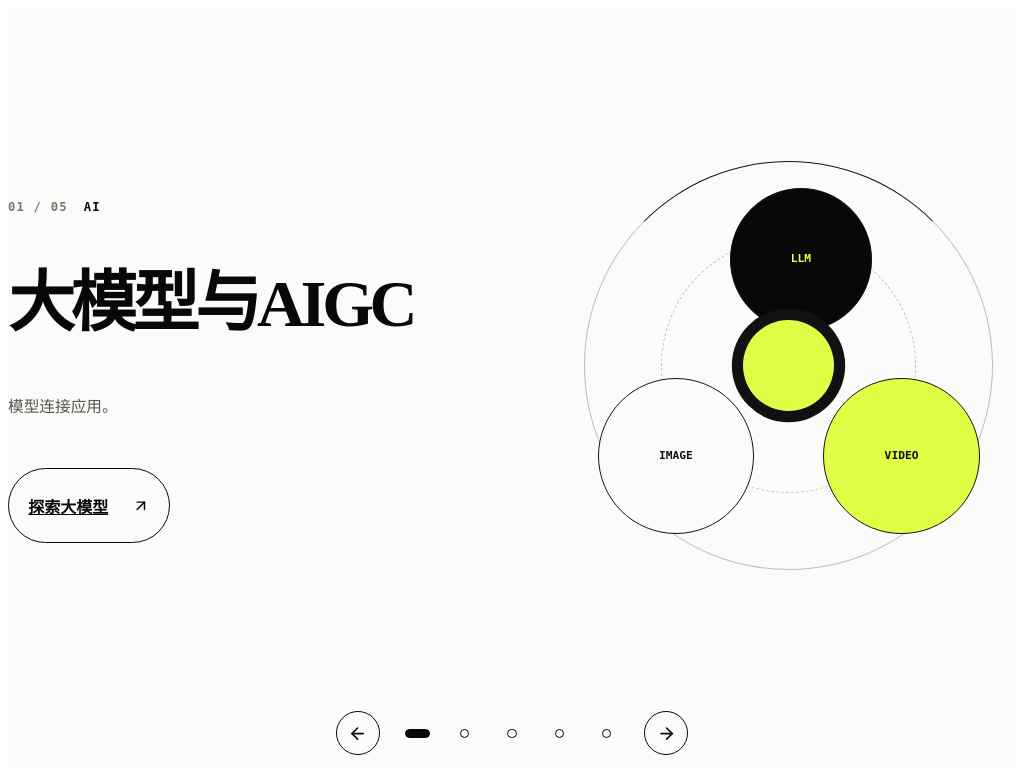
Scenario: home hero carousel › pauses while focus is inside and resumes when focus leaves
Focus the link "探索大模型": (89, 506) [8,468,170,543]
expect the heading reads "大模型与AIGC": met, box [8,266,413,340]
Leave the link "探索大模型", box [8,468,170,543]
Wait 6000 ms
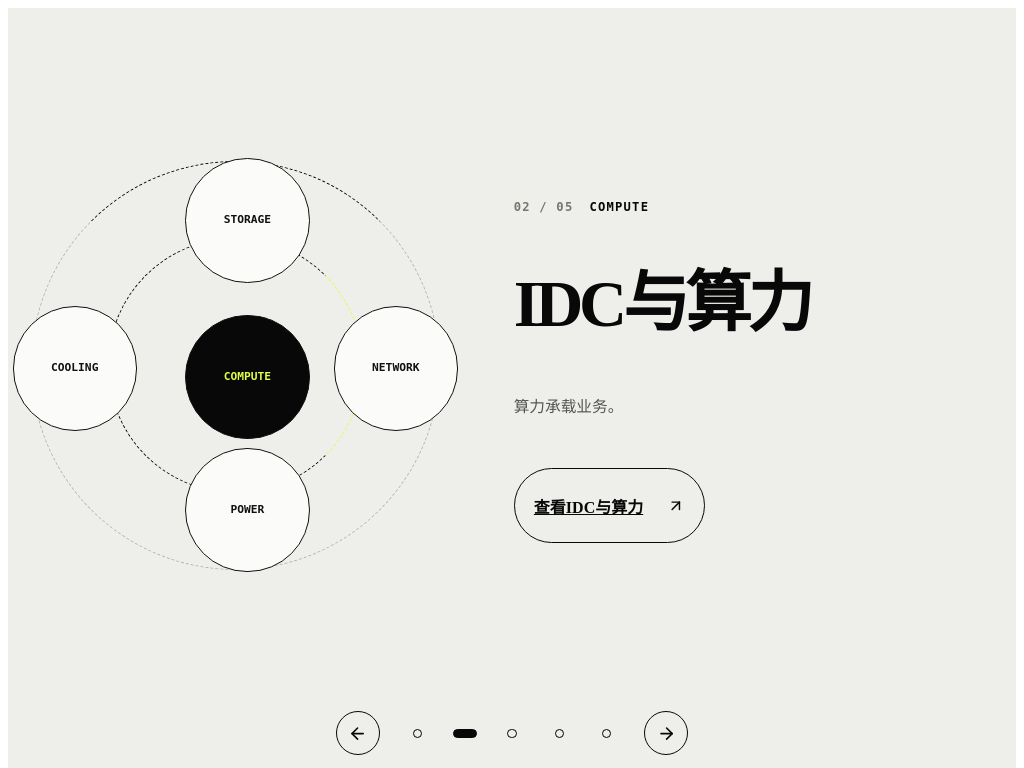
expect the heading reads "IDC与算力": met, box [514,266,809,340]
